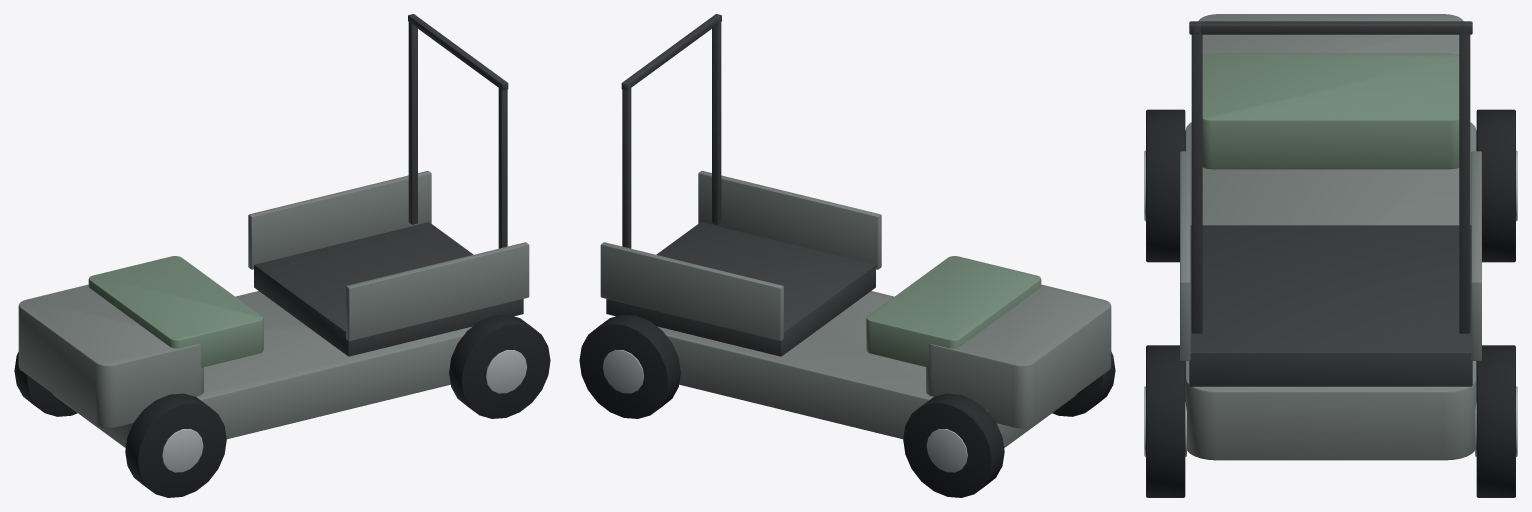
The model's file is utility_cart_municipal.glb.
3 views of the same model, side by side, from view 1: azimuth 30°, elevation 25°; view 2: azimuth 150°, elevation 25°; view 3: azimuth 270°, elevation 25° (orthographic). The views are drawn at different scales.
Parts seen in each view (by area): view 1: ServiceCart_Chassis, ServiceCart_Hood, ServiceCart_BedFloor, ServiceCart_Seat, ServiceCart_BedSide_L, ServiceCart_BedSide_R, ServiceWheel_Front_L_Tire, ServiceWheel_Rear_L_Tire, ServiceCart_SafetyRackPost_R, ServiceCart_SafetyRackPost_L, ServiceWheel_Front_L_Hub, ServiceWheel_Rear_L_Hub (+2 smaller); view 2: ServiceCart_Chassis, ServiceCart_Hood, ServiceCart_BedFloor, ServiceCart_Seat, ServiceCart_BedSide_R, ServiceCart_BedSide_L, ServiceWheel_Front_R_Tire, ServiceWheel_Rear_R_Tire, ServiceCart_SafetyRackPost_L, ServiceCart_SafetyRackPost_R, ServiceWheel_Front_R_Hub, ServiceWheel_Rear_R_Hub (+2 smaller); view 3: ServiceCart_BedFloor, ServiceCart_Chassis, ServiceCart_Seat, ServiceCart_Hood, ServiceWheel_Rear_L_Tire, ServiceWheel_Rear_R_Tire, ServiceWheel_Front_L_Tire, ServiceWheel_Front_R_Tire, ServiceCart_SafetyRackTop, ServiceCart_SafetyRackPost_L, ServiceCart_SafetyRackPost_R, ServiceCart_BedSide_L (+1 smaller).
Part boxes in pixels (x1,y1,x2,y2): ServiceCart_Chassis: (53,291,472,447); ServiceCart_Hood: (18,284,203,428); ServiceCart_BedFloor: (254,222,523,356); ServiceCart_Seat: (88,256,263,367); ServiceCart_BedSide_L: (346,242,529,340); ServiceCart_BedSide_R: (248,171,431,269); ServiceWheel_Front_L_Tire: (125,393,226,497); ServiceWheel_Rear_L_Tire: (449,314,550,418); ServiceCart_SafetyRackPost_R: (408,14,417,224); ServiceCart_SafetyRackPost_L: (498,80,507,248); ServiceWheel_Front_L_Hub: (162,428,203,472); ServiceWheel_Rear_L_Hub: (486,350,526,393); ServiceCart_Chassis: (657,291,1076,447); ServiceCart_Hood: (926,284,1111,428); ServiceCart_BedFloor: (606,222,875,356); ServiceCart_Seat: (866,256,1041,367); ServiceCart_BedSide_R: (600,242,783,340); ServiceCart_BedSide_L: (698,171,881,269); ServiceWheel_Front_R_Tire: (903,393,1004,497); ServiceWheel_Rear_R_Tire: (579,314,680,418); ServiceCart_SafetyRackPost_L: (712,14,721,224); ServiceCart_SafetyRackPost_R: (622,80,631,248); ServiceWheel_Front_R_Hub: (926,428,967,472); ServiceWheel_Rear_R_Hub: (603,350,643,393); ServiceCart_BedFloor: (1189,225,1472,386); ServiceCart_Chassis: (1185,122,1476,460); ServiceCart_Seat: (1202,53,1459,169); ServiceCart_Hood: (1198,14,1463,54); ServiceWheel_Rear_L_Tire: (1146,345,1185,497); ServiceWheel_Rear_R_Tire: (1476,345,1515,497); ServiceWheel_Front_L_Tire: (1146,109,1185,262); ServiceWheel_Front_R_Tire: (1476,109,1515,262); ServiceCart_SafetyRackTop: (1189,21,1472,34); ServiceCart_SafetyRackPost_L: (1191,21,1202,333); ServiceCart_SafetyRackPost_R: (1459,21,1470,333); ServiceCart_BedSide_L: (1180,151,1190,360).
Size of what is drawn, in the model's own units: 2.38 by 1.69 by 1.19.
